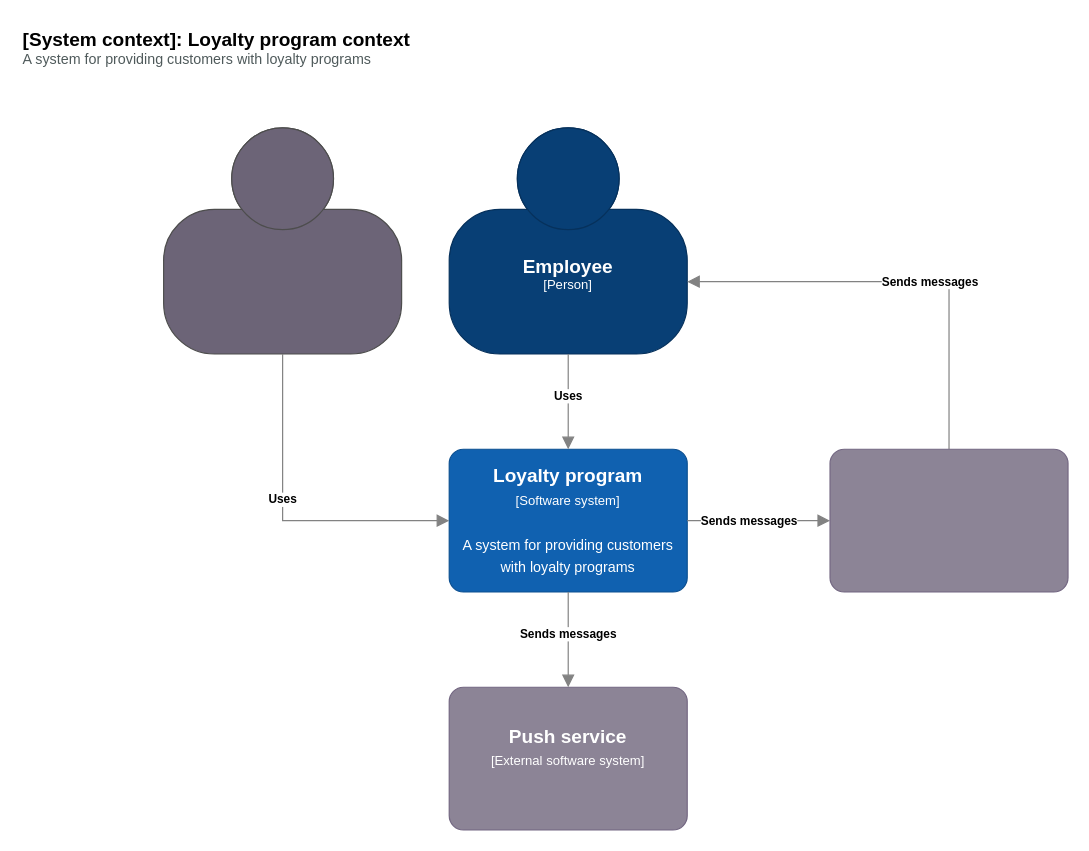
This 1089x851 diagram has some shape labels left out. The shapes that lost their labels are listed below. From the top down, each one's box as (x1, y1, x2, y2) in pixels, then its label:
(162, 127, 402, 354): Client [ External person ]
(829, 448, 1068, 592): E-mail server [External software system] Internal Microsoft Exchange Server
